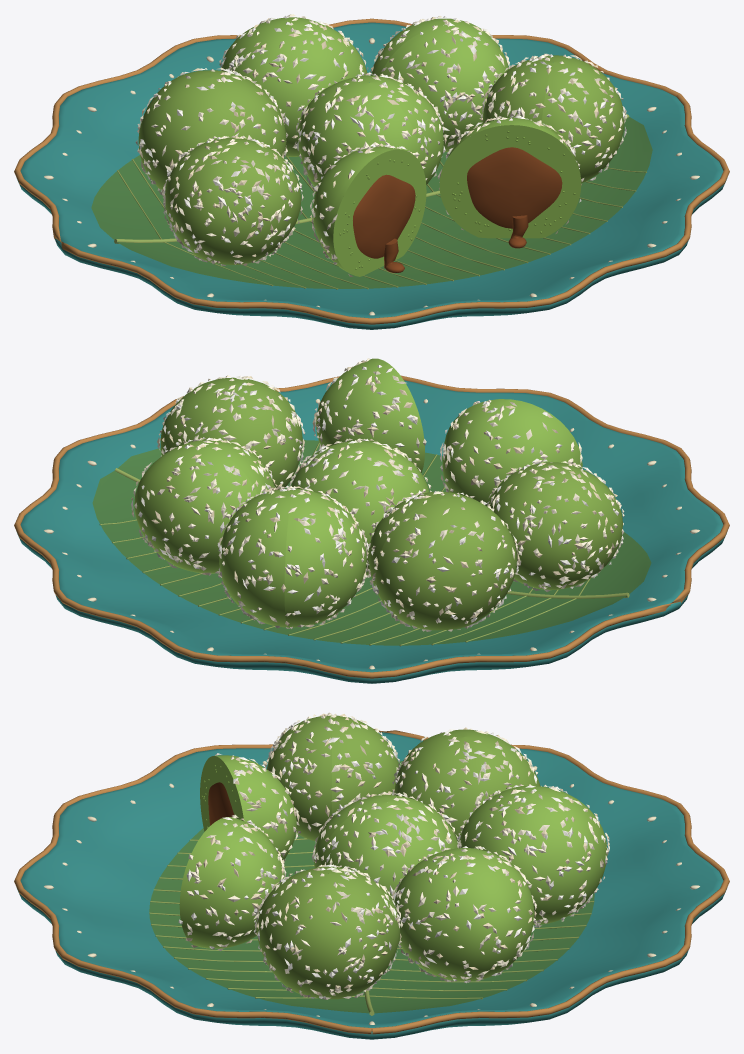
3 renders of one model, top to bottom at view 1: azimuth 30°, elevation 25°; view 2: azimuth 150°, elevation 25°; view 3: azimuth 270°, elevation 25°, orthographic.
Visible parts, largest first — view 1: Rice sweets, Pedestal dish, Liner, Cut face, Coconut coating, Dish painting; view 2: Rice sweets, Pedestal dish, Coconut coating, Liner, Dish painting; view 3: Rice sweets, Pedestal dish, Coconut coating, Liner, Cut face, Dish painting.
Part boxes in pixels (box(x1,y1,x2,y2)): Rice sweets: box(138, 17, 624, 273); Pedestal dish: box(14, 18, 729, 329); Liner: box(91, 114, 652, 289); Cut face: box(333, 125, 581, 276); Coconut coating: box(135, 14, 627, 276); Dish painting: box(44, 38, 699, 315); Rice sweets: box(134, 358, 622, 630); Pedestal dish: box(14, 375, 729, 683); Coconut coating: box(131, 358, 624, 631); Liner: box(92, 440, 651, 646); Dish painting: box(44, 399, 699, 669); Rice sweets: box(179, 715, 607, 999); Pedestal dish: box(14, 729, 729, 1039); Coconut coating: box(178, 712, 609, 999); Liner: box(149, 761, 594, 1015); Cut face: box(200, 756, 243, 831); Dish painting: box(44, 761, 699, 1024).
Size of the model in its own units: 0.2322 by 0.0626 by 0.2322.
